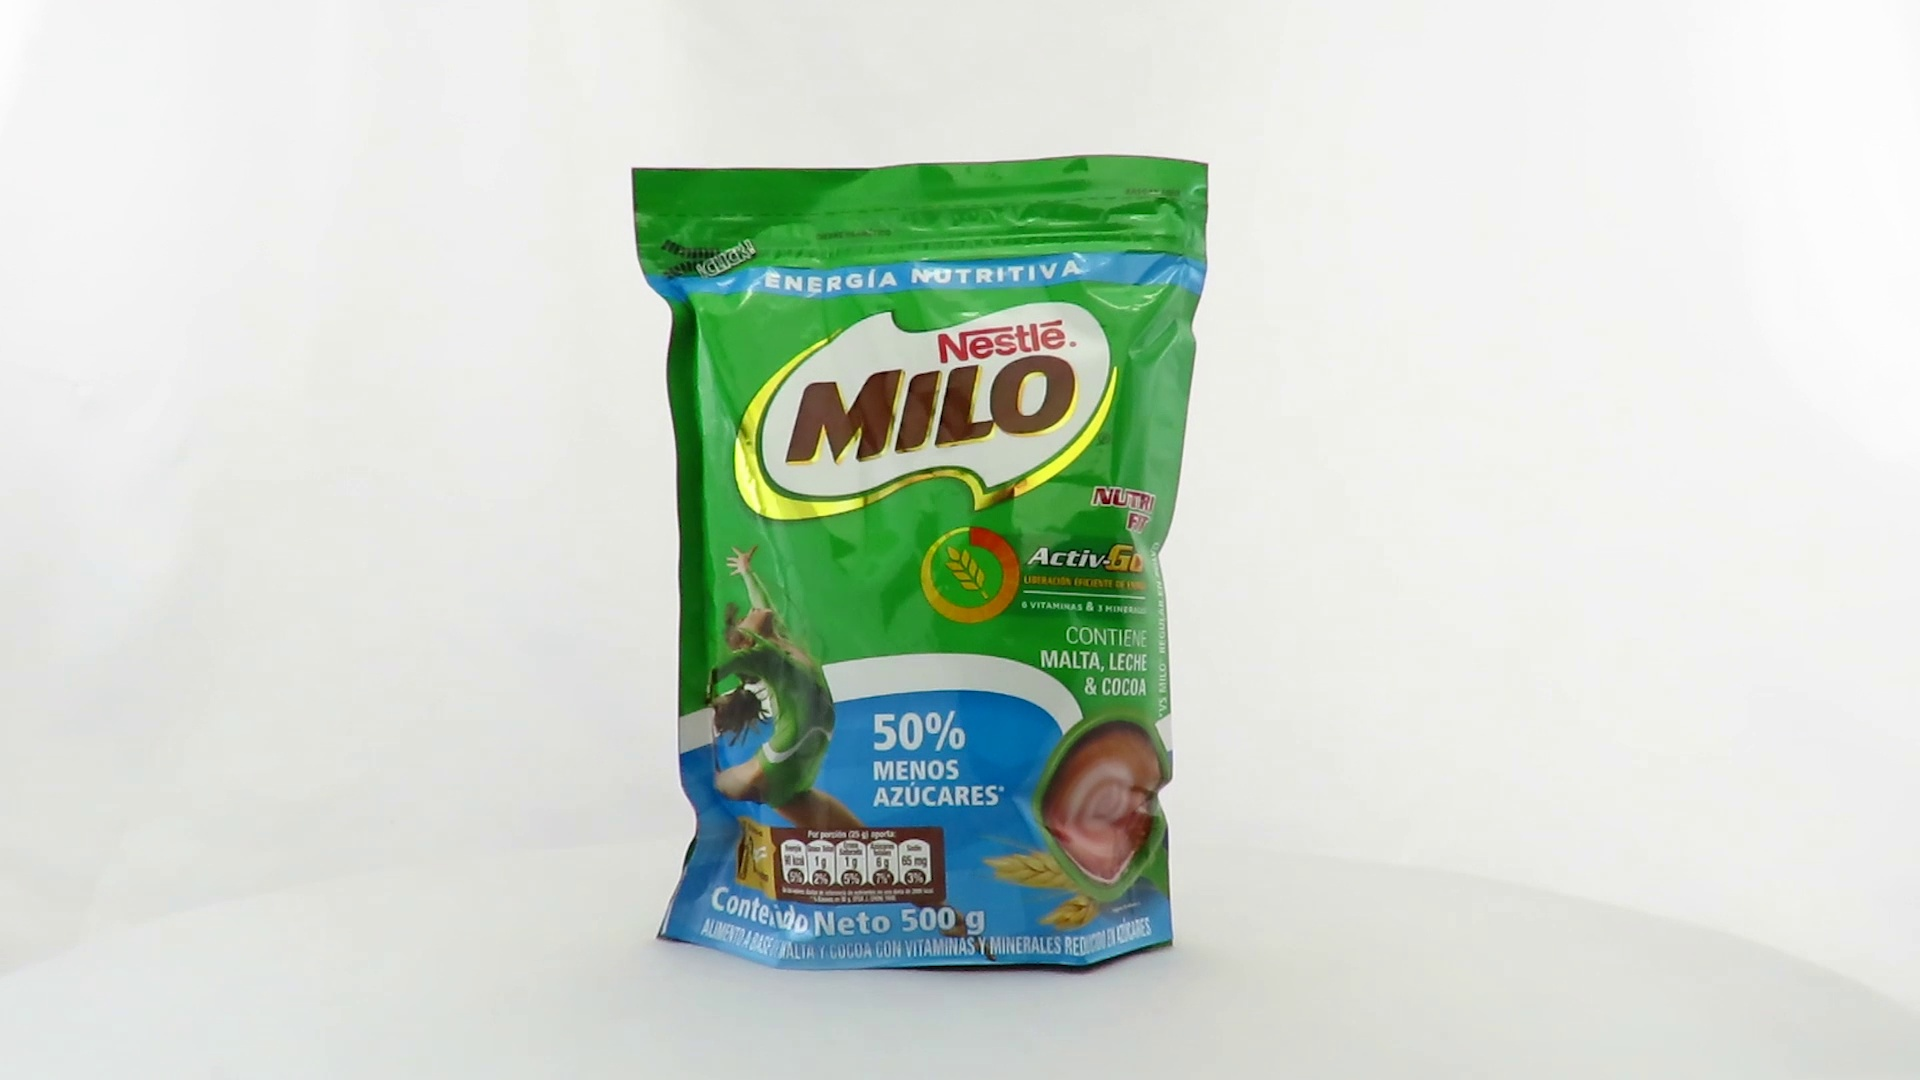COL0170205DYP50000: (626, 149, 1215, 981)
